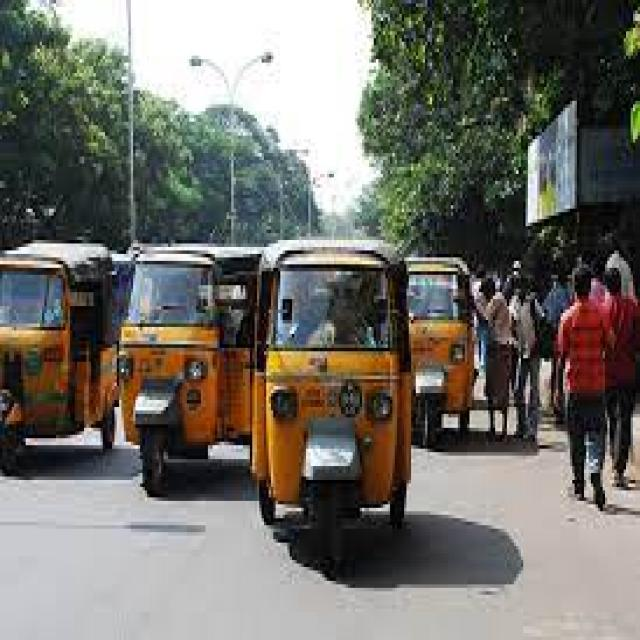Auto: (253, 219, 422, 529), (111, 219, 267, 502), (0, 186, 119, 488), (406, 253, 481, 460)
